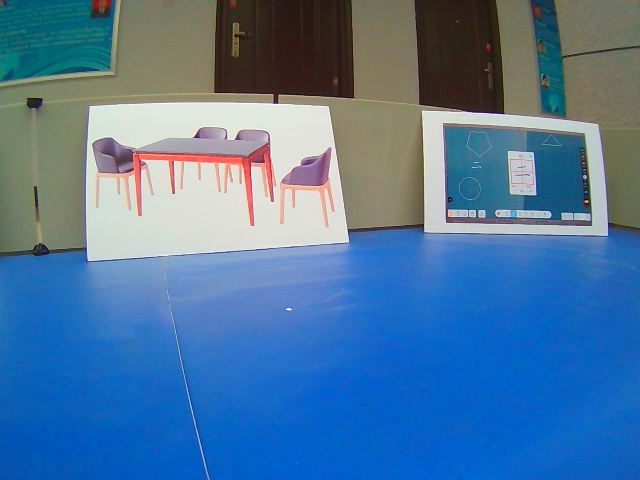table: (86, 102, 350, 261)
tv: (420, 110, 610, 237)
